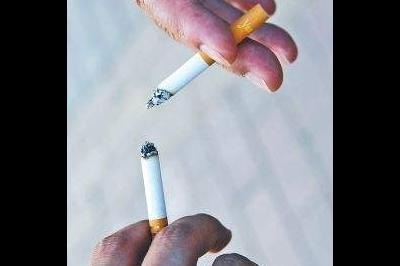Cigarette: (146, 3, 270, 108), (139, 140, 166, 250)
